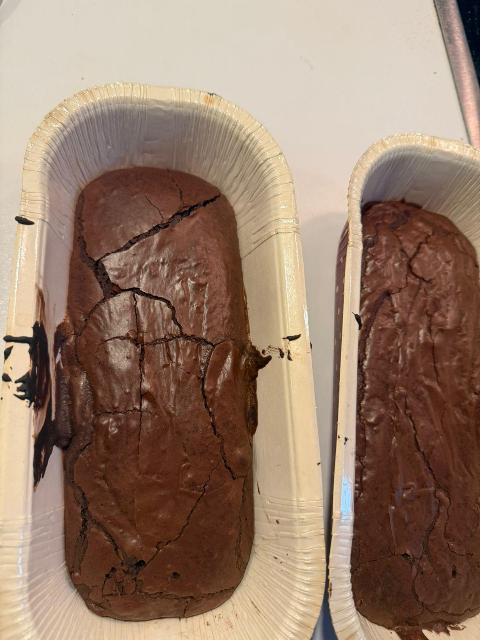Kagit: (256, 155, 320, 597), (340, 169, 363, 569)
Organik: (88, 199, 233, 565), (379, 249, 467, 575)
